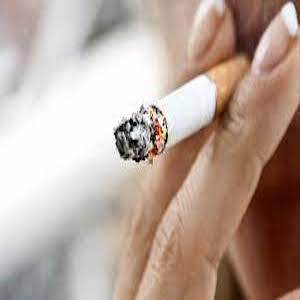heat: (113, 86, 169, 164)
